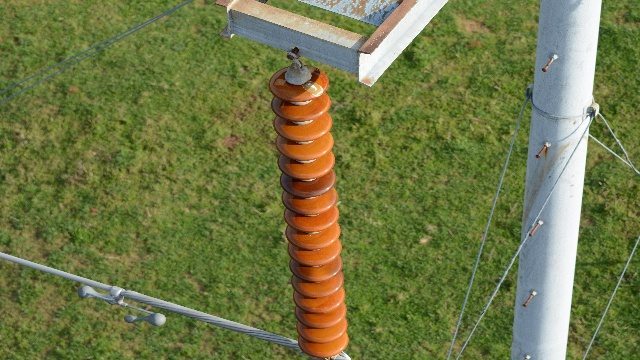insulator_unspecified: (266, 67, 350, 356)
pollution_flashover_local: (303, 79, 324, 96)
